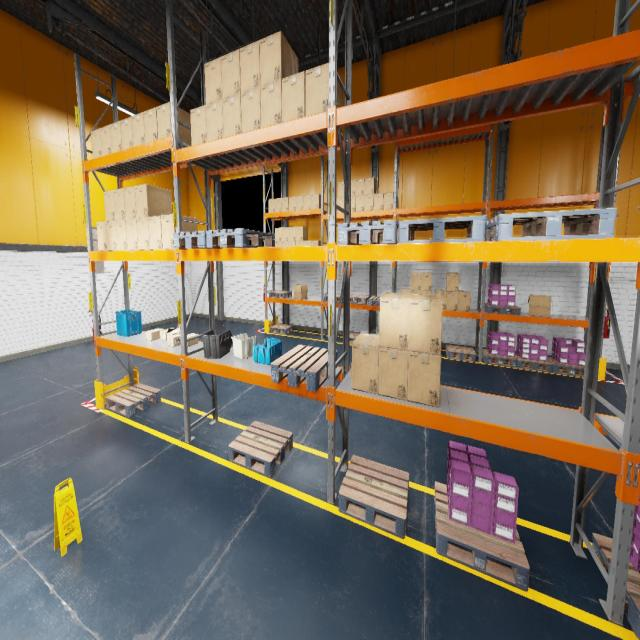box: (306, 63, 342, 133), (260, 31, 298, 86), (408, 294, 442, 354), (379, 292, 412, 350), (407, 351, 441, 407), (351, 333, 379, 394), (378, 346, 408, 401), (157, 102, 191, 145), (161, 214, 197, 249), (135, 184, 172, 218), (282, 71, 305, 122), (260, 80, 282, 128), (240, 41, 260, 92), (240, 87, 260, 132), (222, 49, 240, 99), (204, 56, 222, 105), (222, 94, 242, 137), (206, 100, 223, 141), (190, 105, 207, 145), (528, 294, 552, 317), (144, 106, 158, 142), (148, 215, 162, 250), (136, 217, 150, 249), (132, 112, 145, 146), (121, 116, 133, 149), (124, 186, 136, 219), (110, 120, 122, 152), (100, 124, 112, 156), (126, 219, 138, 250), (116, 220, 128, 250), (114, 188, 125, 220), (104, 190, 115, 221), (96, 222, 108, 250), (91, 128, 102, 158), (105, 221, 116, 251), (458, 291, 471, 311), (446, 272, 459, 292), (446, 290, 458, 310), (435, 290, 447, 309), (293, 284, 308, 299), (167, 324, 180, 341), (146, 328, 163, 340), (421, 272, 432, 290), (410, 272, 421, 290), (160, 328, 176, 340), (365, 178, 376, 195), (168, 332, 180, 347), (384, 192, 394, 210), (364, 194, 374, 211), (374, 192, 383, 210), (296, 227, 308, 240), (356, 178, 364, 196), (187, 333, 198, 346), (311, 194, 321, 208), (356, 195, 364, 212), (303, 194, 311, 210), (288, 196, 296, 211), (288, 227, 296, 241), (296, 196, 303, 210), (268, 198, 275, 212), (282, 196, 288, 212), (338, 181, 344, 197), (338, 197, 344, 213), (282, 227, 288, 241), (275, 198, 281, 212), (275, 228, 281, 241), (351, 180, 355, 196), (351, 196, 355, 212), (400, 288, 410, 293), (310, 240, 320, 245), (410, 290, 421, 294), (421, 290, 431, 294), (336, 197, 338, 213), (296, 241, 302, 246), (289, 241, 295, 246), (303, 241, 310, 245), (282, 242, 288, 246), (275, 242, 281, 246)
pallets: (434, 482, 530, 591), (339, 455, 409, 539), (592, 533, 640, 639), (484, 208, 616, 242), (228, 420, 293, 478), (271, 345, 337, 391), (398, 215, 486, 243), (106, 383, 161, 418), (338, 220, 398, 245), (206, 228, 275, 248), (173, 230, 220, 249), (515, 352, 553, 372), (548, 357, 584, 377), (482, 349, 517, 367), (446, 344, 476, 362), (484, 303, 520, 315), (270, 324, 293, 334), (269, 290, 292, 298), (350, 295, 370, 304), (324, 294, 343, 303), (368, 296, 381, 306), (350, 332, 360, 344)
